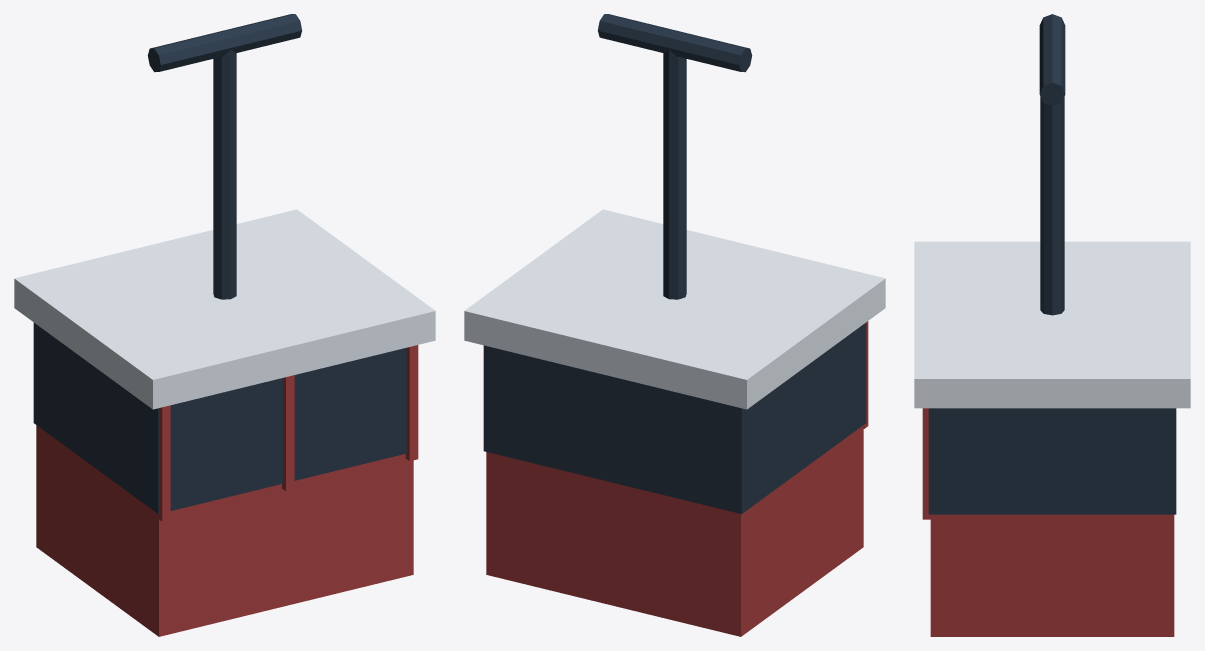
The model's file is gondola.glb.
The picture shows the model from 3 angles, left to right: view 1: azimuth 30°, elevation 25°; view 2: azimuth 150°, elevation 25°; view 3: azimuth 270°, elevation 25°; orthographic projection.
Parts seen in each view (by area): view 1: gondola_red, gondola_snow, gondola_dark; view 2: gondola_dark, gondola_snow, gondola_red; view 3: gondola_snow, gondola_dark, gondola_red.
Boxes of the visible parts, x1,y1,x2,y2 form: gondola_red: (36,345,418,636); gondola_snow: (14,209,435,409); gondola_dark: (33,14,406,513); gondola_dark: (483,14,866,513); gondola_snow: (464,209,885,409); gondola_red: (486,321,868,636); gondola_snow: (914,241,1190,408); gondola_dark: (928,14,1176,514); gondola_red: (922,408,1174,636).
Bounding box in the file's own units: 4 × 7.16 × 3.4.
